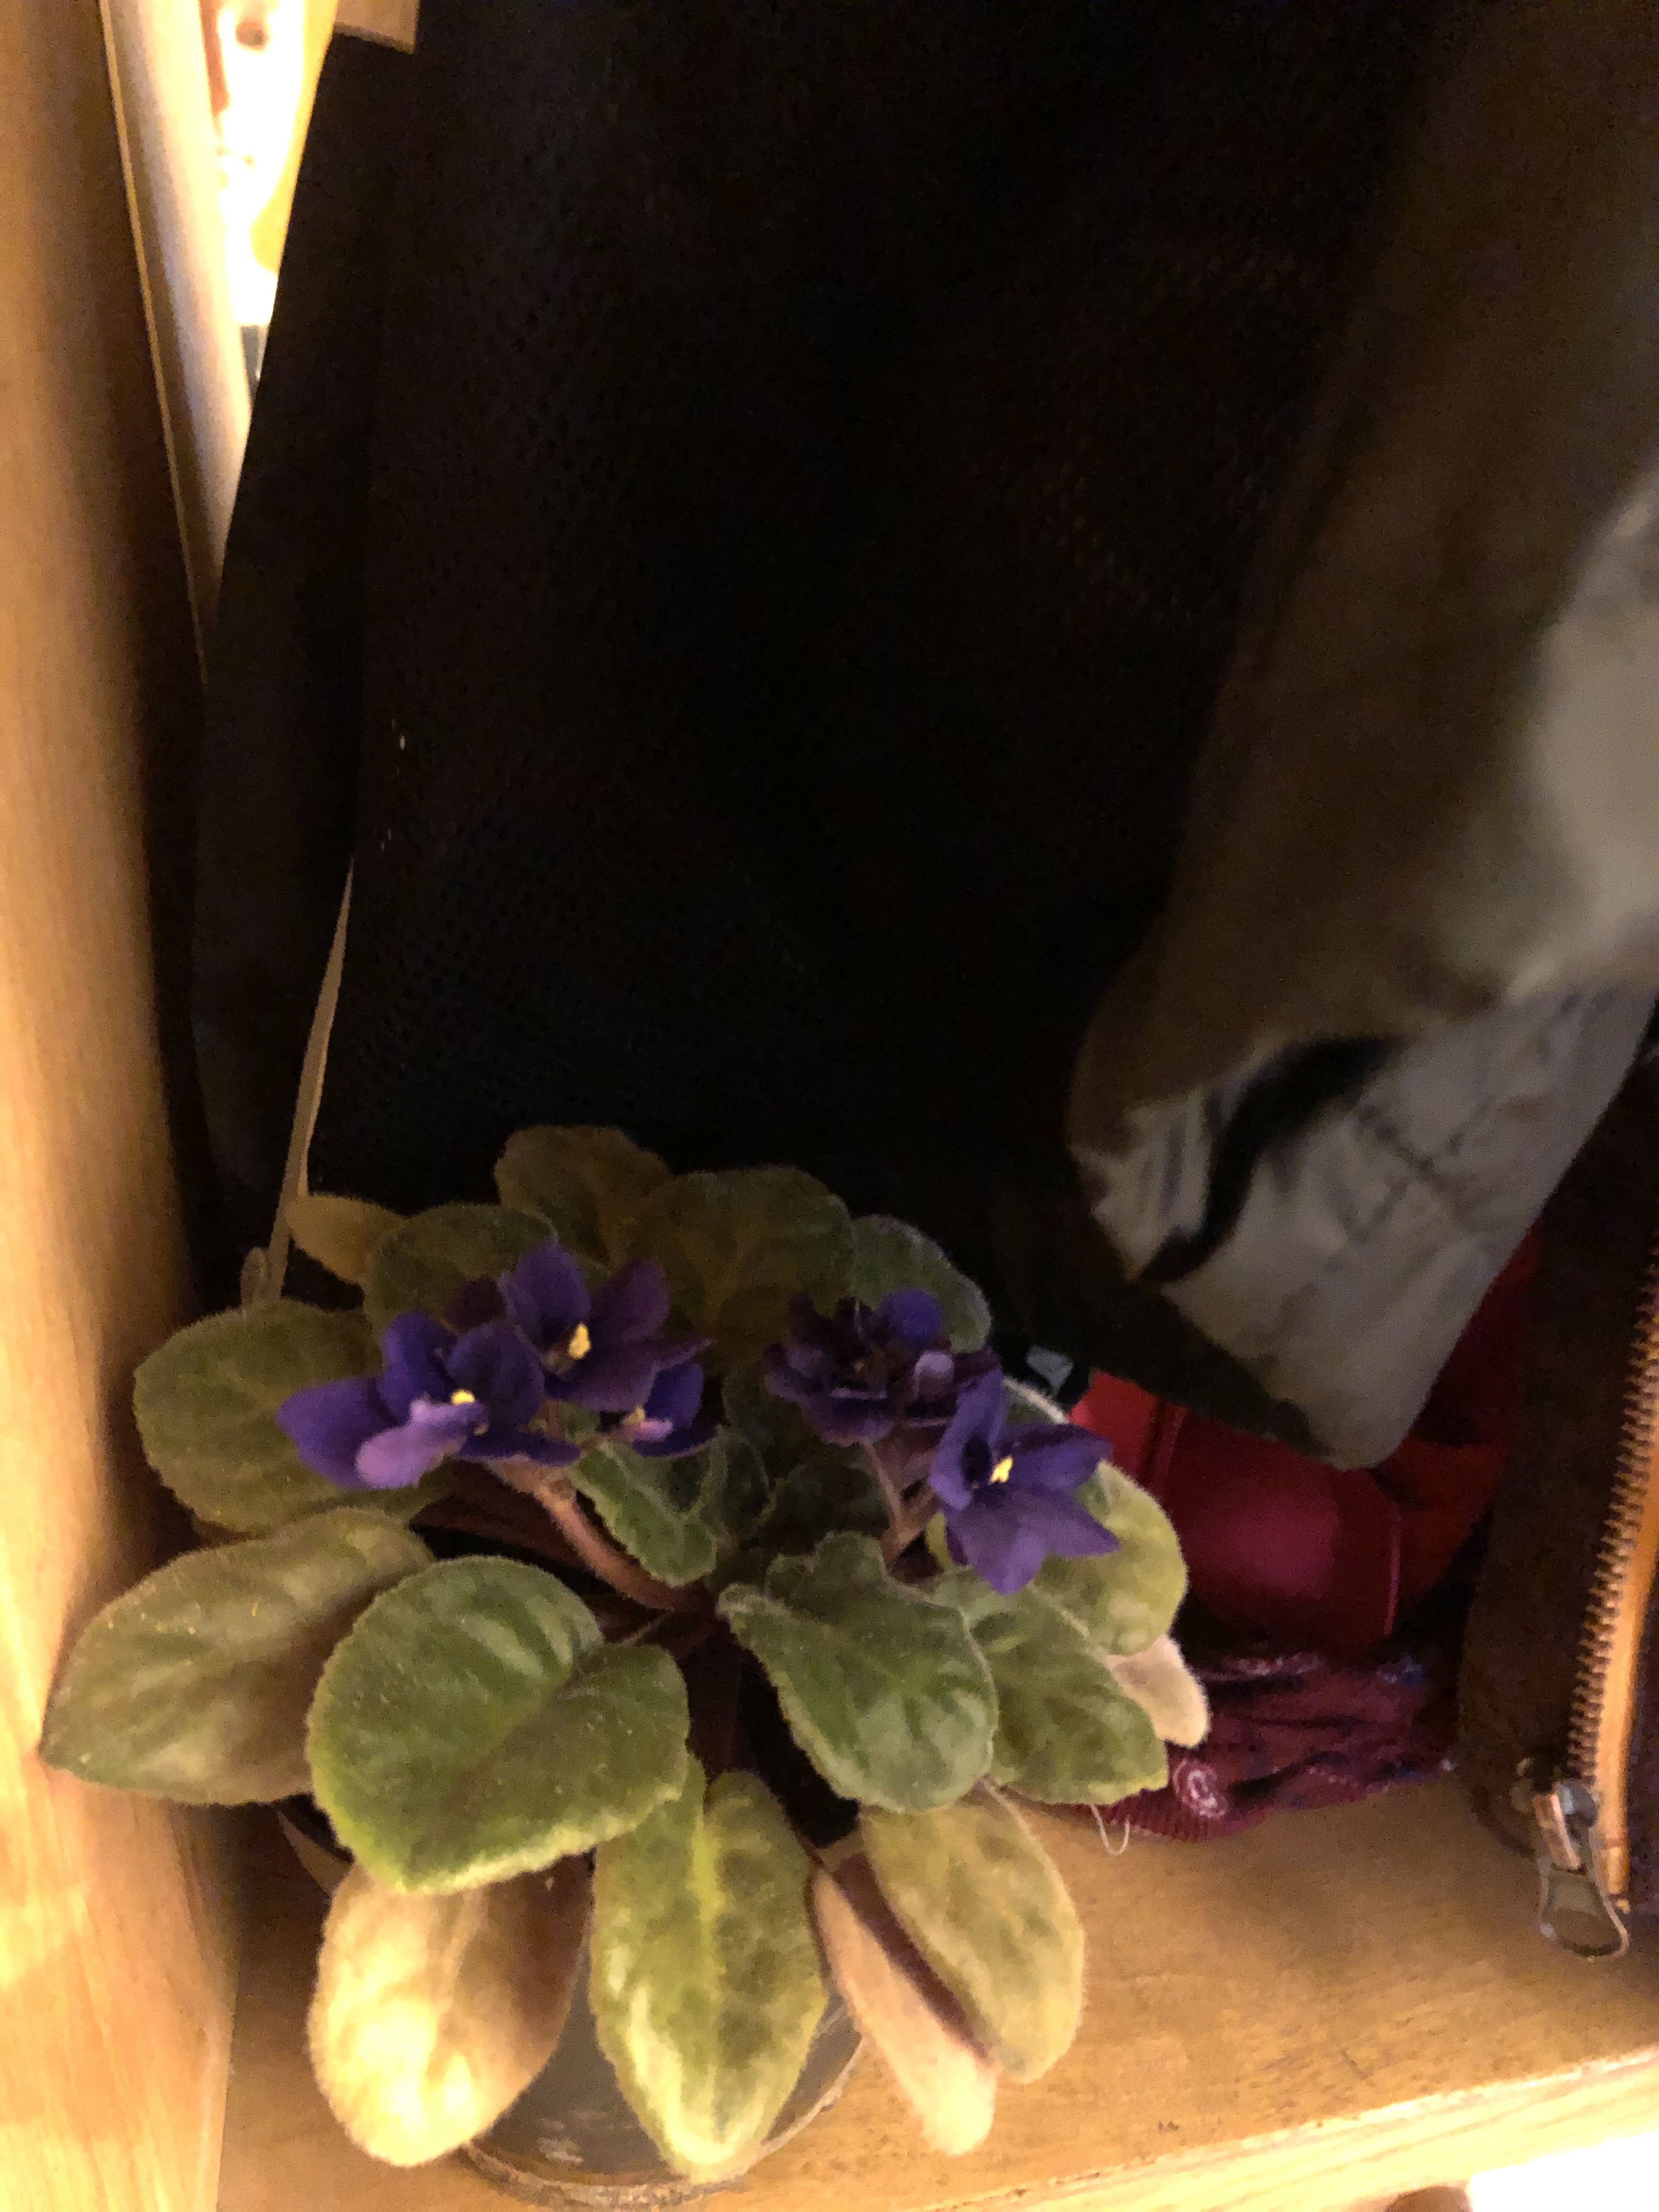ignore: (96, 1092, 1197, 2158)
